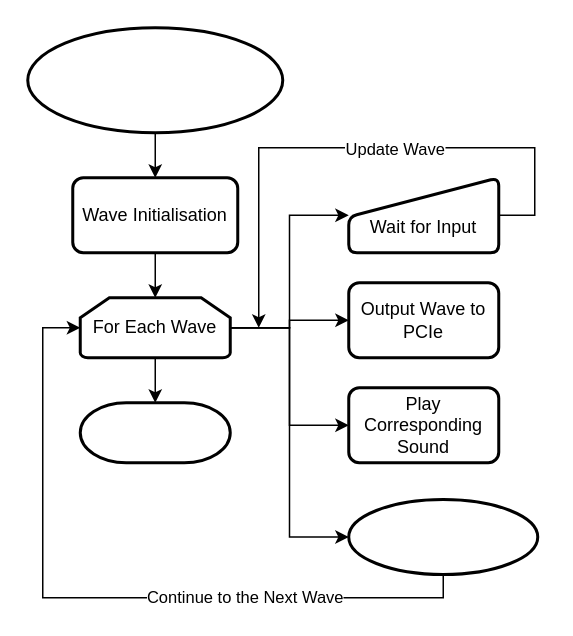
Image size: 573x636. Some labels were removed from this diagram. Each missing label, with the box of its shape:
End of Program: (78, 400, 231, 464)
Start a 10-Second Countdown Timer: (346, 497, 538, 575)
Start the Program w/ or w/o Program Arguments: (26, 26, 284, 134)
